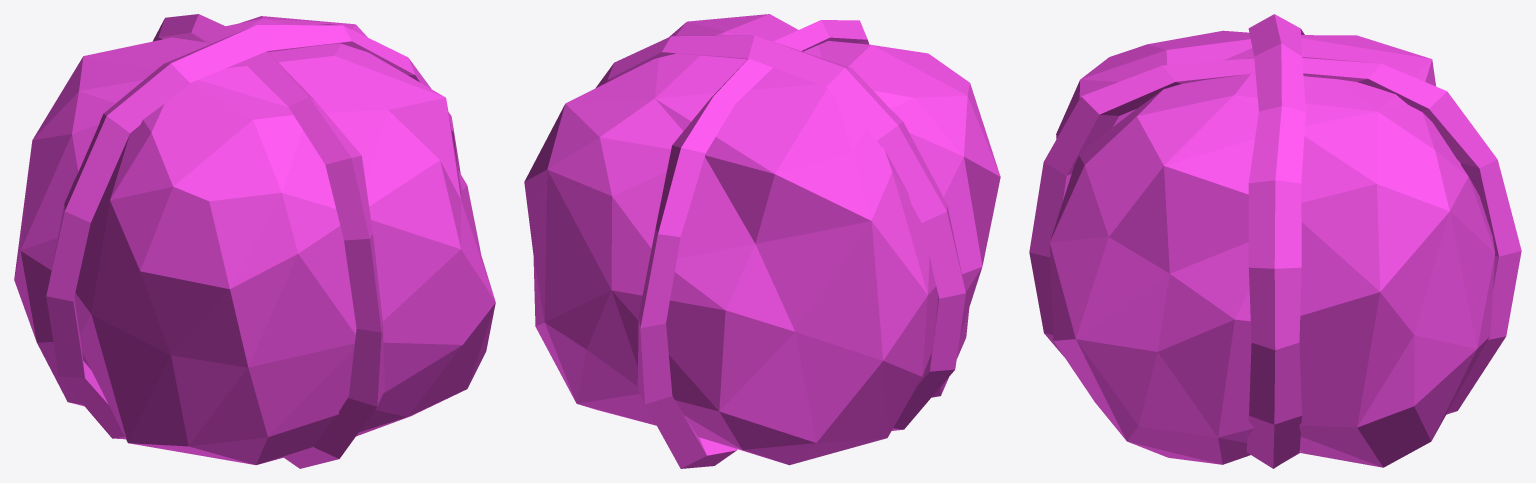
The model's file is SM_Package_Fantasy.fbx.
The picture shows the model from 3 angles, left to right: view 1: azimuth 30°, elevation 25°; view 2: azimuth 150°, elevation 25°; view 3: azimuth 270°, elevation 25°; orthographic projection. The views are drawn at different scales.
Parts seen in each view (by area): view 1: SM_Package_Fantasy; view 2: SM_Package_Fantasy; view 3: SM_Package_Fantasy.
Boxes of the visible parts, <box> form: SM_Package_Fantasy: <box>14,14,495,468</box>; SM_Package_Fantasy: <box>524,14,1000,468</box>; SM_Package_Fantasy: <box>1029,14,1521,468</box>.
Size of the model in its own units: 0.5286 by 0.4857 by 0.5473.
